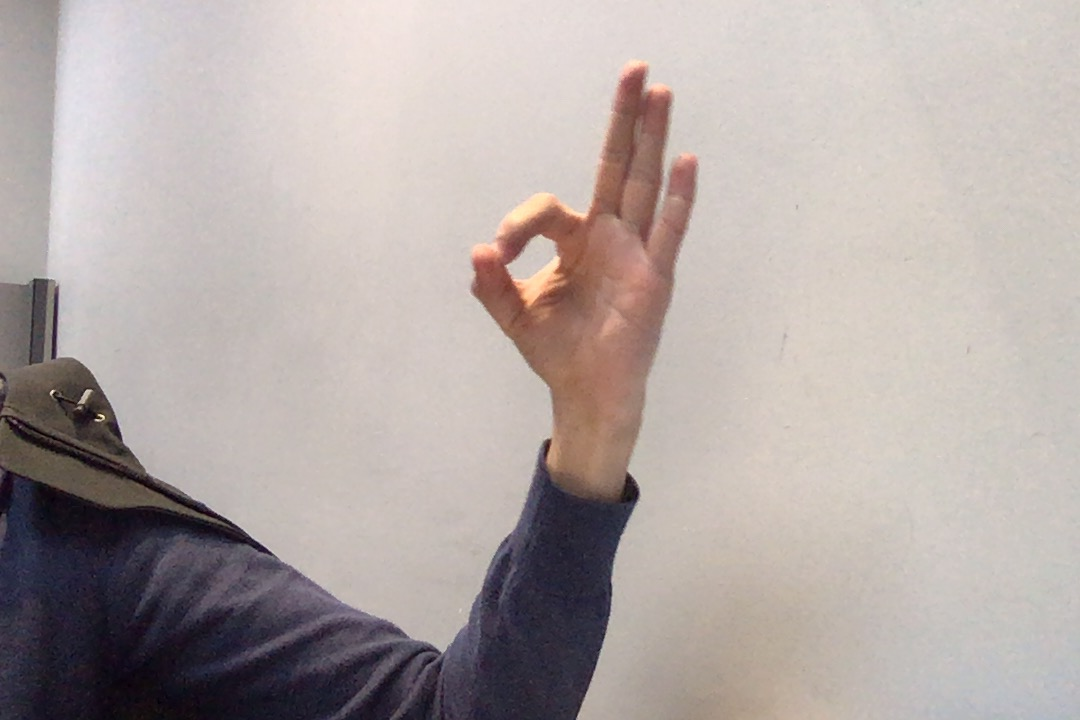oksign: (457, 50, 713, 408)
